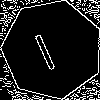I: (27, 24, 59, 72)
